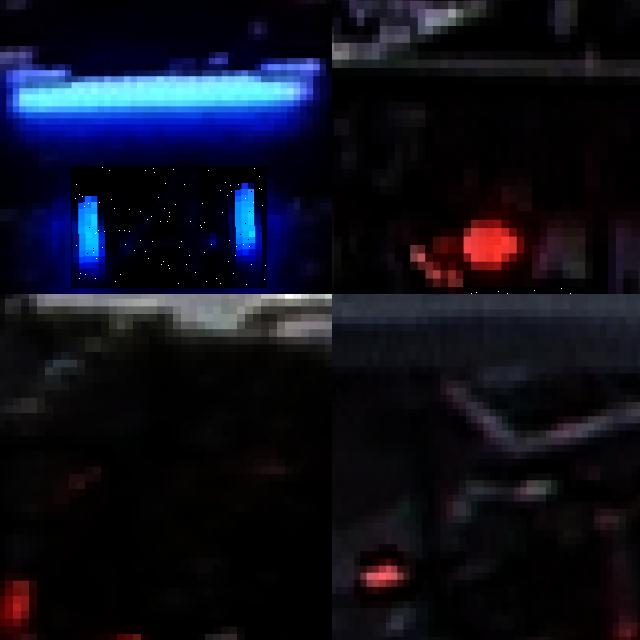B4: (71, 166, 268, 288)
R1: (57, 600, 332, 640)
